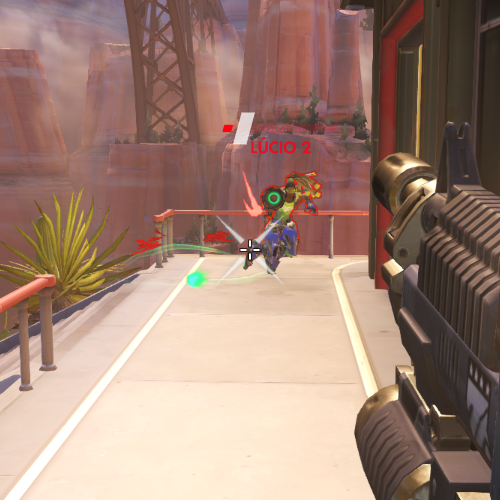hpbar: (222, 124, 338, 133)
